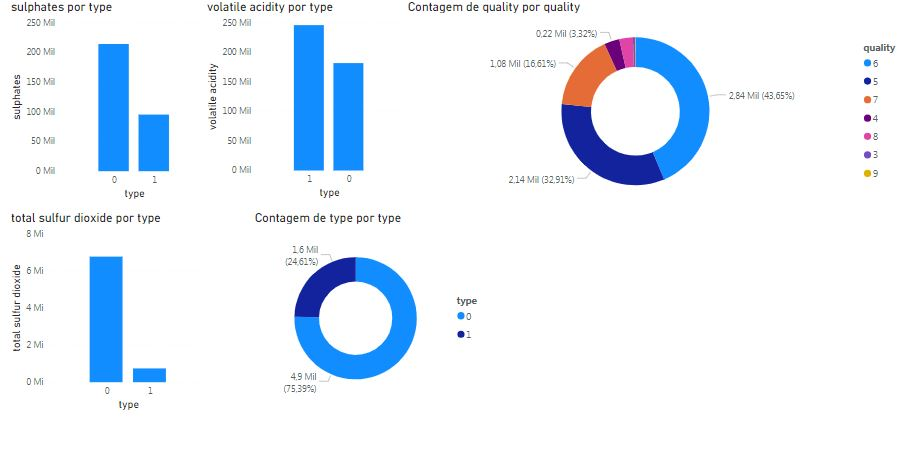

The page's visual inventory and layout, read from the dashboard file:
{"tool":"powerbi","page":{"name":"Página 2","canvas":[1280,720],"ordinal":1},"visuals":[{"type":"clusteredColumnChart","fields":{"Category":["winecorrel.type"],"Y":["Sum(winecorrel.sulphates)"]},"box":[10,0,280,280],"z":0},{"type":"clusteredColumnChart","fields":{"Category":["winecorrel.type"],"Y":["Sum(winecorrel.total sulfur dioxide)"]},"box":[10,290,280,280],"z":1000},{"type":"clusteredColumnChart","fields":{"Category":["winecorrel.type"],"Y":["Sum(winecorrel.volatile acidity)"]},"box":[279.4,0,276.6,279.4],"z":2000},{"type":"donutChart","fields":{"Category":["winecorrel.quality"],"Y":["CountNonNull(winecorrel.quality)"]},"box":[556,0,699.2,290.4],"z":3000},{"type":"donutChart","fields":{"Category":["winecorrel.type"],"Y":["CountNonNull(winecorrel.type)"]},"box":[345.5,290.4,335.8,279.4],"z":4000}]}

Visuals, with their boxes on the page's 1280x720 design canvas (x1, y1, x2, y2). These are canvas units, not pixel positions in the 899x458 screenshot, which may show the page scaled, cropped or inside an application window:
clusteredColumnChart - winecorrel.type x Sum(winecorrel.sulphates): 10/0/290/280
clusteredColumnChart - winecorrel.type x Sum(winecorrel.total sulfur dioxide): 10/290/290/570
clusteredColumnChart - winecorrel.type x Sum(winecorrel.volatile acidity): 279/0/556/279
donutChart - winecorrel.quality x CountNonNull(winecorrel.quality): 556/0/1255/290
donutChart - winecorrel.type x CountNonNull(winecorrel.type): 346/290/681/570
